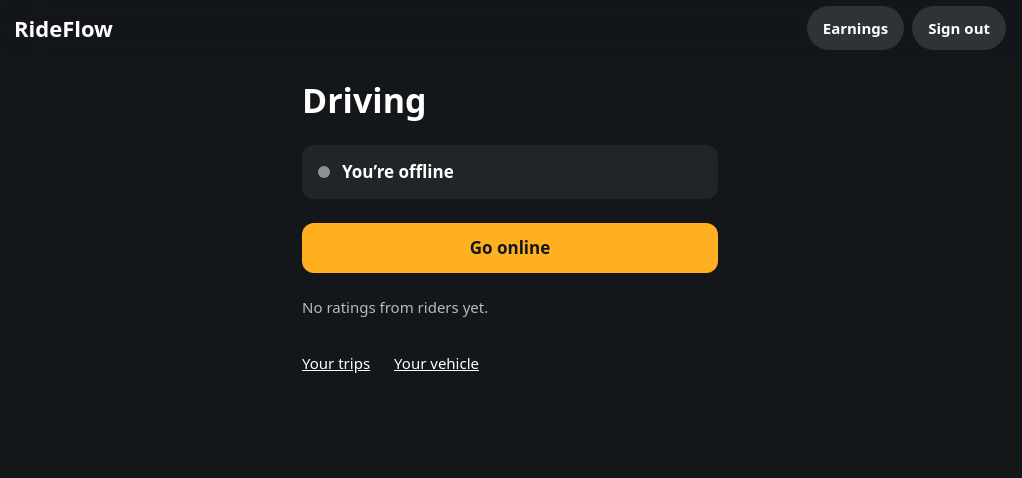
Test: an approved driver › goes online
Click the button "Go online" at (510, 248), box [302,223,718,273]
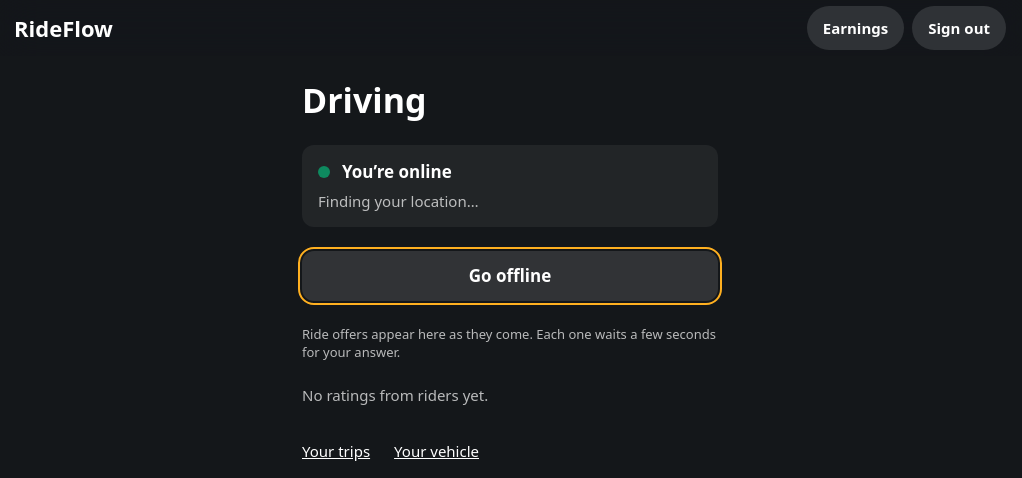
Expected: the button "Go offline" is enabled, [302,251,718,301]
Expected: the text "You’re online" is shown, [342,161,452,183]
